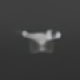plane: (17, 28, 64, 56)
